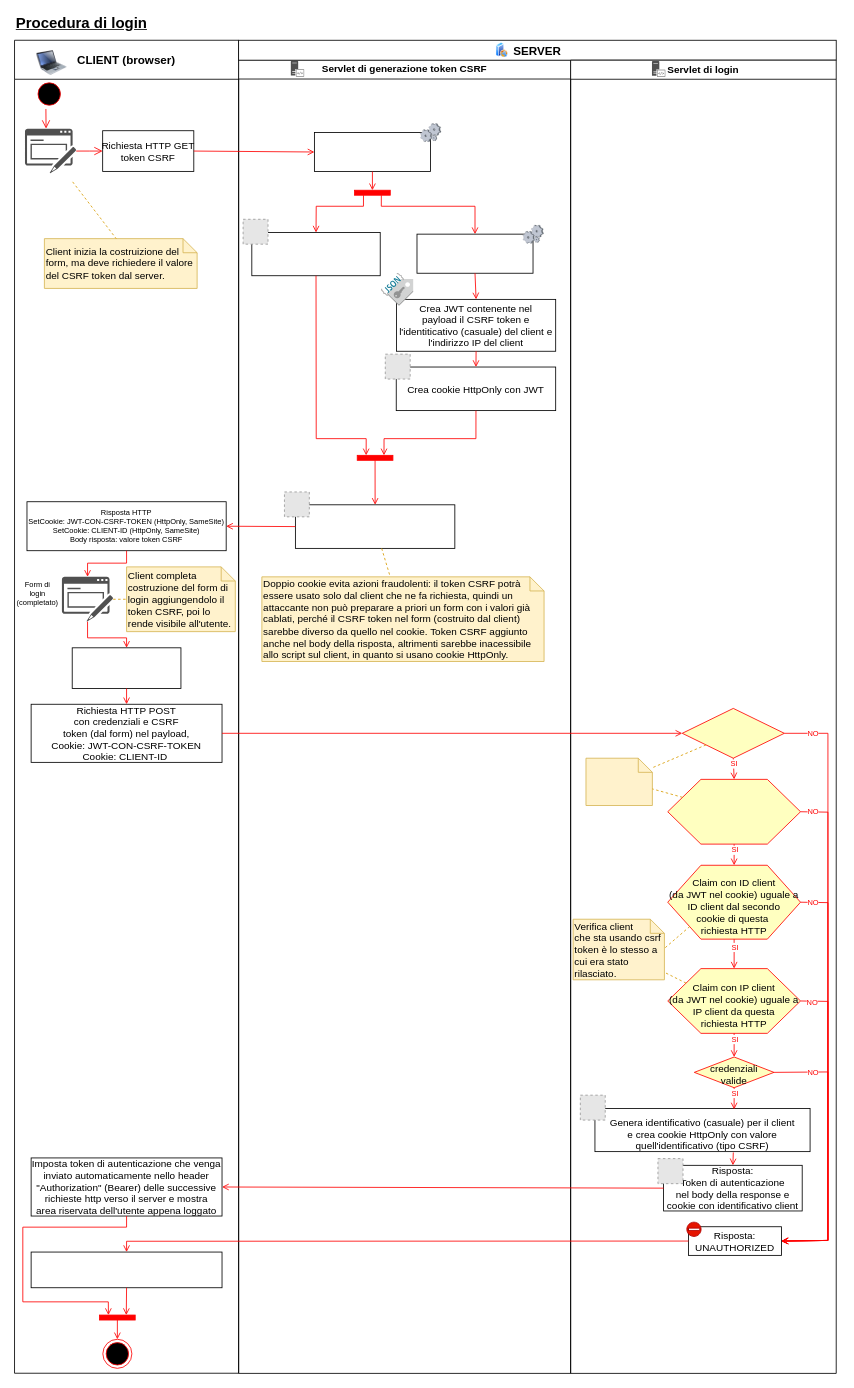
This 854x1388 diagram has some shape labels left out. Grey dashed boxes stand in for pictures. Each missing label, with the centre of its shape:
Claim con CSRF token (da JWT nel cookie) uguale a CSRF dal form: point (734, 811)
Costruisci risposta HTTP con cookie CSRF token nel body della risposta: point (375, 526)
Crea cookie HttpOnly con identificativo (casuale) de client: point (315, 254)
Form login: point (50, 150)
Genera CSRF token (casuale): point (474, 253)
Genera identificativo casuale per il client: point (372, 152)
Ripresenta il form di login, token CSRF resta lo stesso.: point (126, 1269)
token JWT nel cookie è valdo: point (732, 733)
Utente inserisce le credenziali nel form di login: point (126, 667)
Verifica CSRF: point (618, 781)
